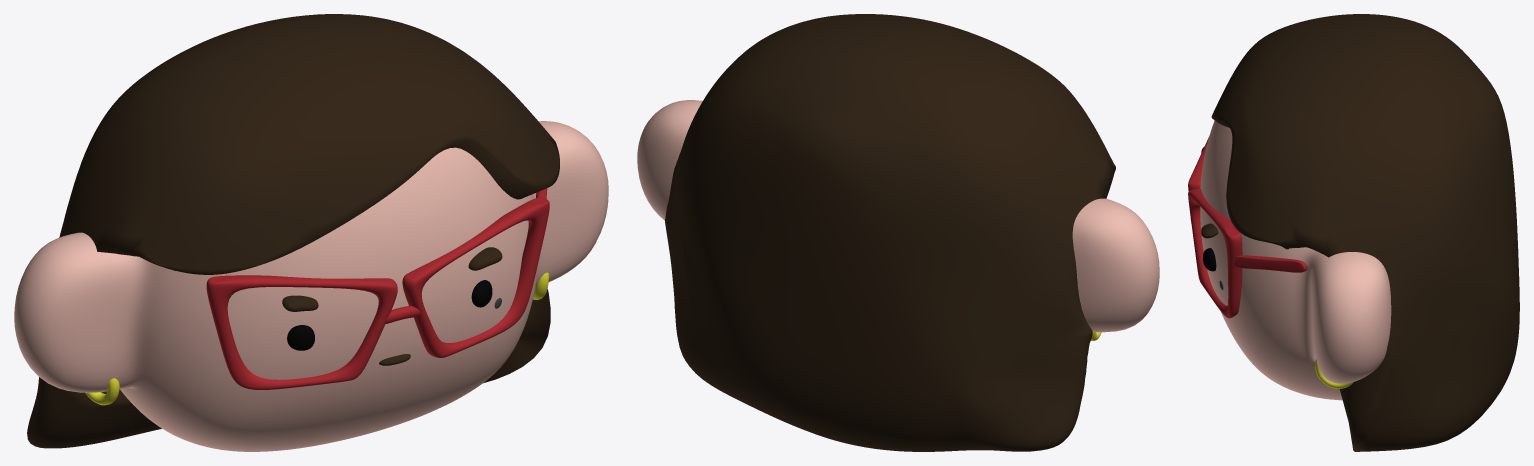
Rendered from aunt_face.glb.
3 views of the same model, side by side, from view 1: azimuth 30°, elevation 25°; view 2: azimuth 150°, elevation 25°; view 3: azimuth 270°, elevation 25° (orthographic). The views are drawn at different scales.
Parts seen in each view (by area): view 1: aunt; view 2: aunt; view 3: aunt.
Part boxes in pixels (<box>): aunt: <box>14,14,608,451</box>; aunt: <box>637,14,1159,451</box>; aunt: <box>1188,14,1519,451</box>.
Size of the model in its own units: 1.64 by 1.09 by 0.9476.
